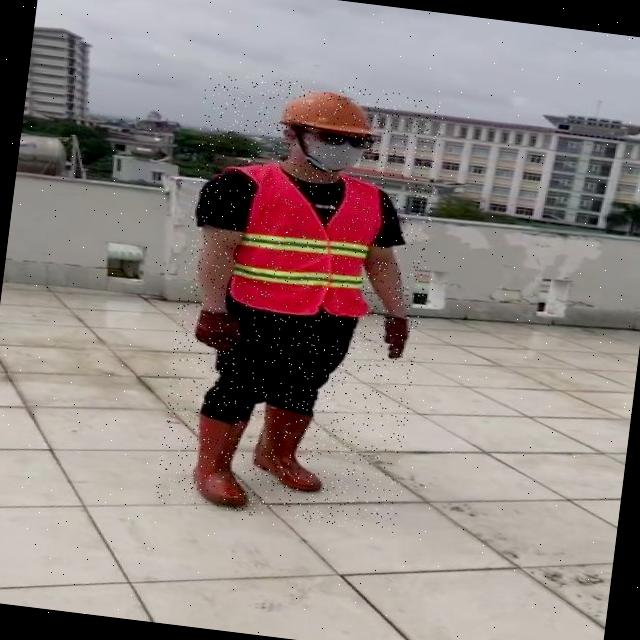boots: (190, 409, 262, 509), (250, 404, 330, 492)
helmet: (277, 84, 380, 138)
vest: (226, 165, 388, 322)
